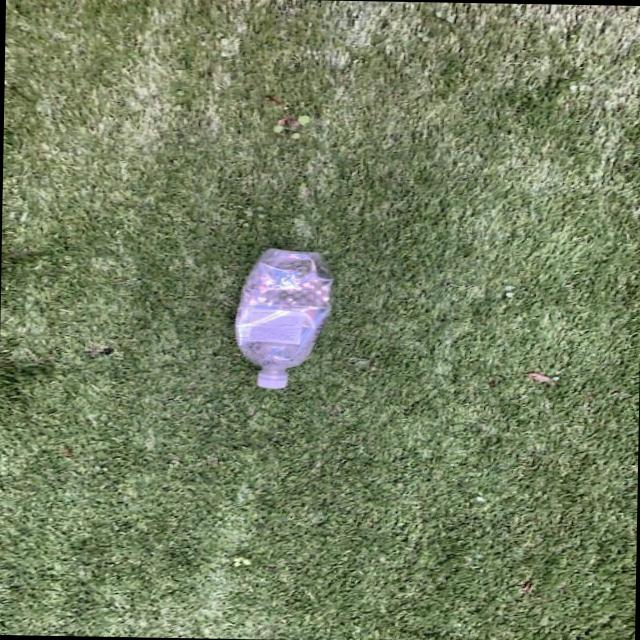plastic_bottle: (234, 248, 338, 390)
